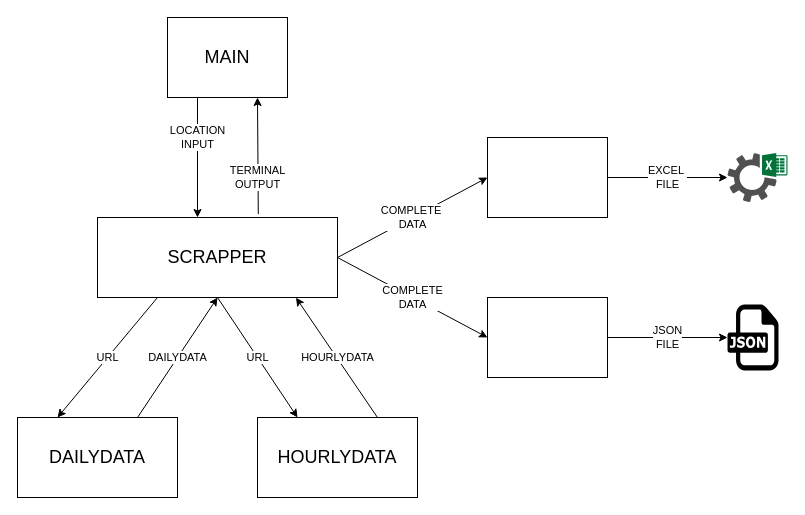
Some shapes in this 805 by 515 pixel diagram are drawn without their labels. Each missing label, with the box of its shape:
EXCEL OUTPUT: (486, 136, 608, 218)
JSON OUTPUT: (486, 296, 608, 378)
